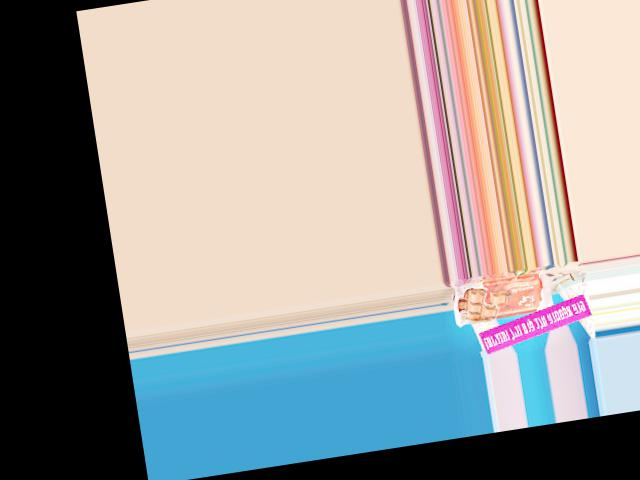chocolate: (447, 268, 556, 329)
